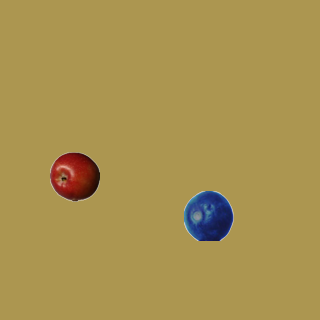Apple Braeburn: (49, 151, 99, 201)
Huckleberry: (183, 190, 233, 240)
